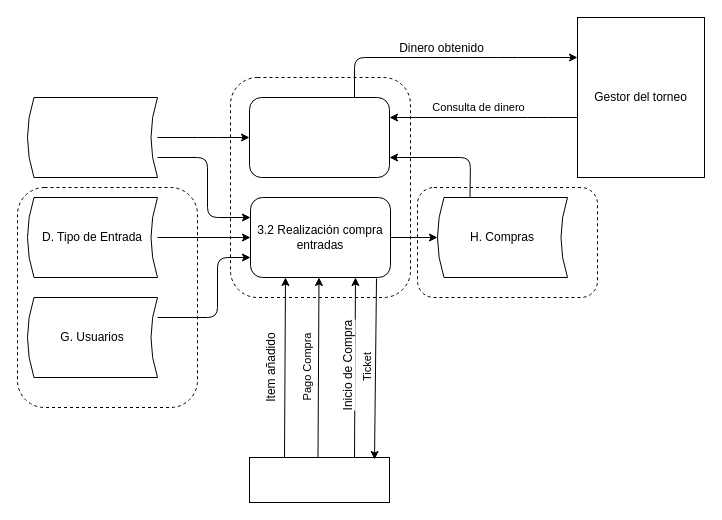
Some shapes in this 722 by 520 pixel diagram are drawn without their labels. The box of each missing label's shape, as (x1, y1, x2, y2) in pixels:
3.1 Consulta dinero obtenido: (248, 96, 390, 178)
A. Edición: (26, 96, 158, 178)
Usuarios: (248, 456, 390, 502)
